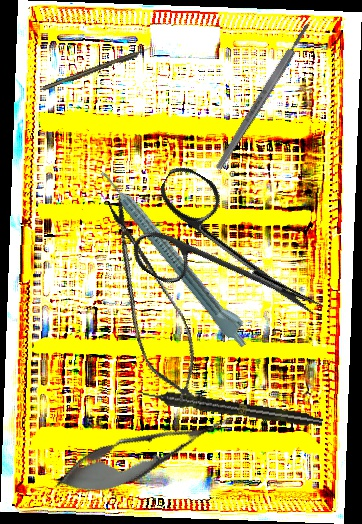Handpiece: (96, 160, 258, 352), (138, 385, 324, 430)
Hook Surgical: (41, 45, 155, 92)
Iris Scissors: (120, 160, 348, 357)
Micro Scissor: (87, 190, 213, 412), (47, 396, 245, 509)
Scalpel Handle: (213, 21, 313, 172)
